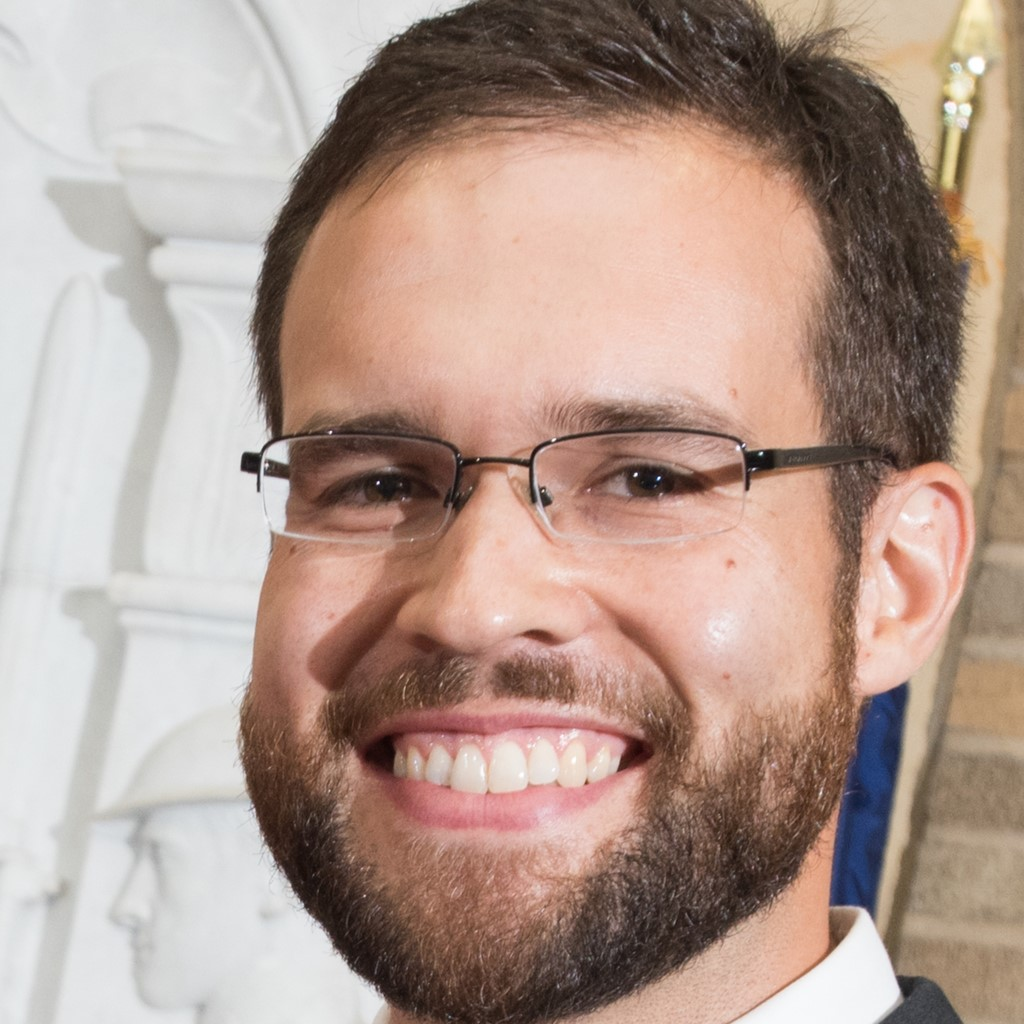sin_mascara: (257, 80, 912, 985)
